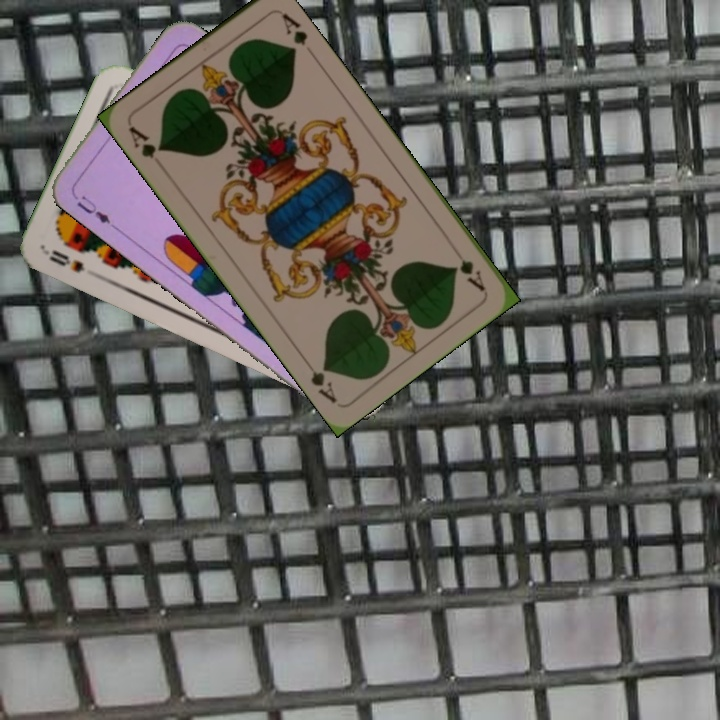EU: (68, 186, 117, 230)
GA: (124, 122, 167, 162), (452, 255, 488, 294)
S8: (41, 245, 87, 276)
